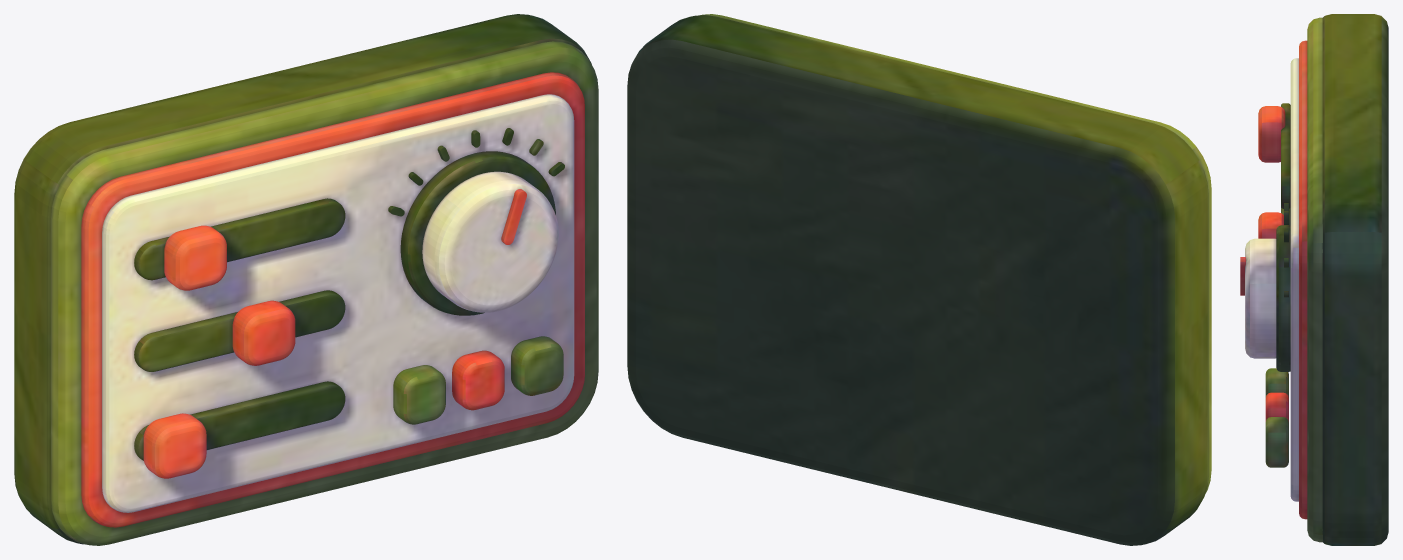
The model's file is settings.glb.
3 views of the same model, side by side, from view 1: azimuth 30°, elevation 25°; view 2: azimuth 150°, elevation 25°; view 3: azimuth 270°, elevation 25° (orthographic). The views are drawn at different scales.
Parts seen in each view (by area): view 1: Continuous coral trim.001; view 2: Continuous coral trim.001; view 3: Continuous coral trim.001.
Boxes of the visible parts, x1,y1,x2,y2 form: Continuous coral trim.001: (14, 14, 598, 545); Continuous coral trim.001: (627, 14, 1211, 545); Continuous coral trim.001: (1240, 14, 1388, 545).
Bounding box in the file's own units: 2.42 × 1.68 × 0.6651.
1 material, 1 textured.
